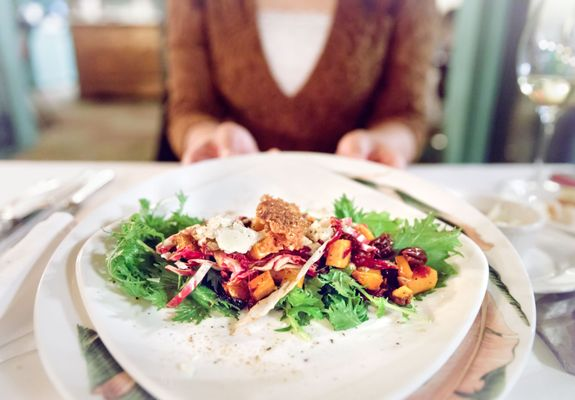sandwich: (0, 171, 104, 259)
